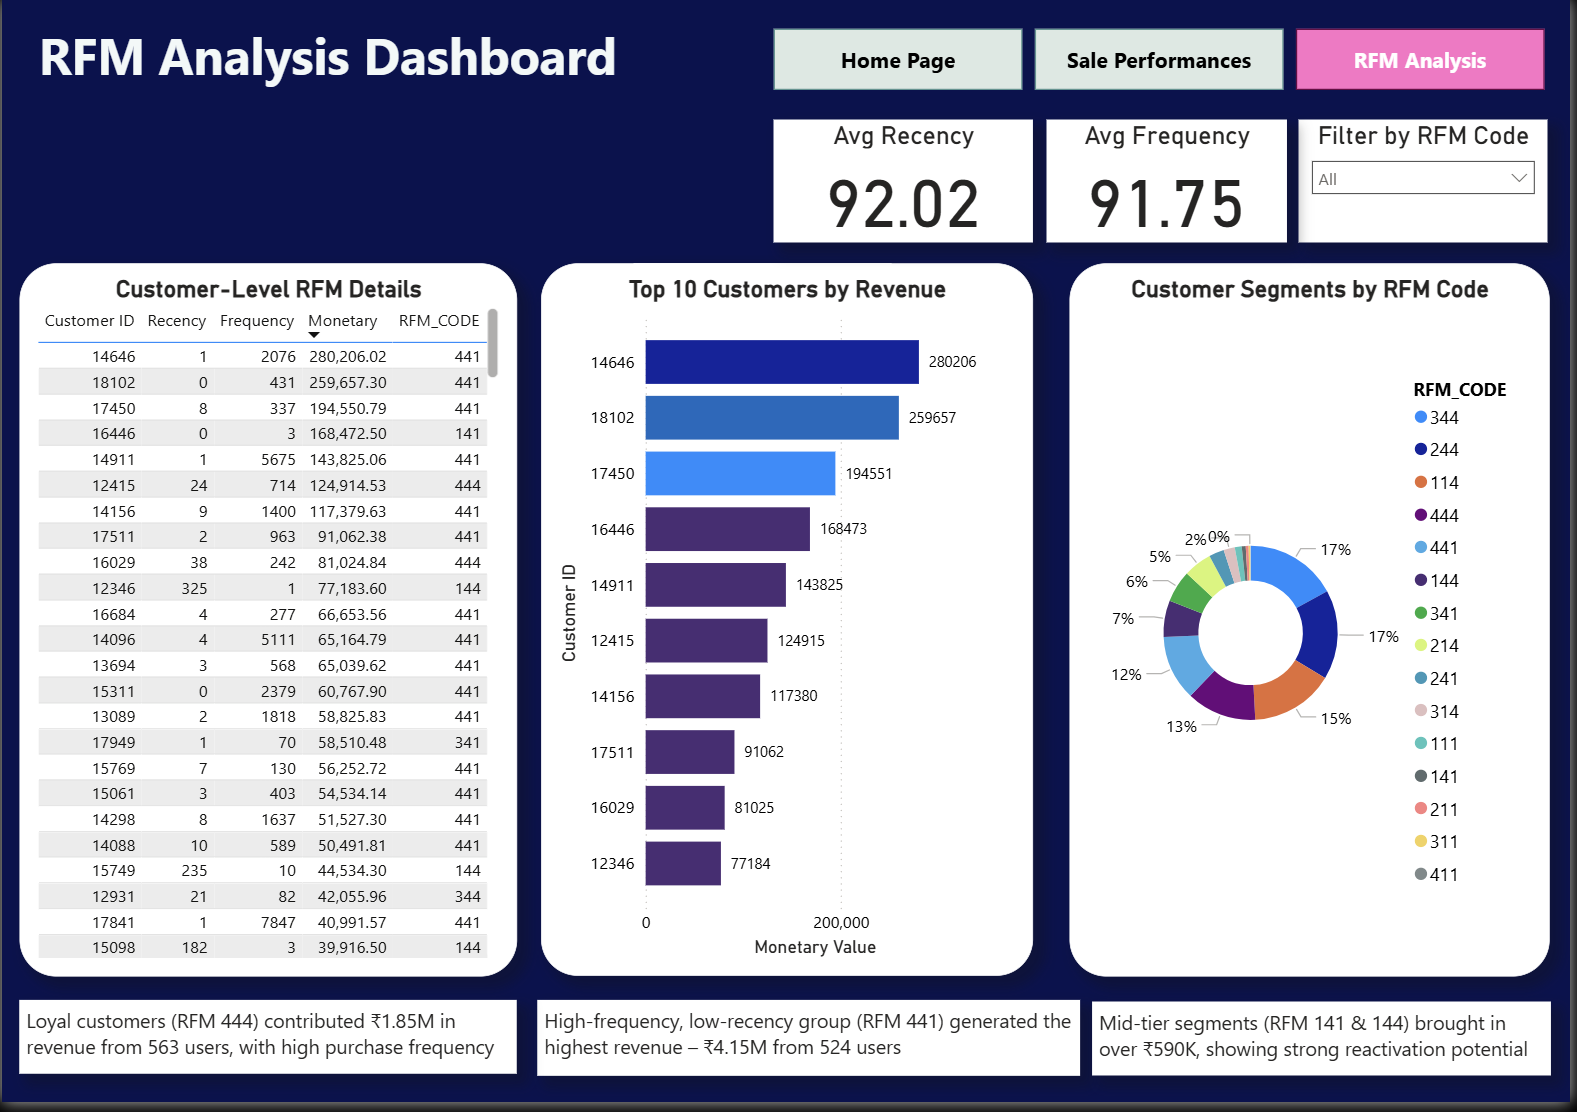

What the dashboard file says about the page in this screenshot:
{"tool":"powerbi","page":{"name":"RFM Analysis","canvas":[1280,900],"ordinal":2},"visuals":[{"type":"card","title":"Avg Recency","fields":{"Values":["Avg(RFM_FINAL.Recency)"]},"box":[515.7,215.7,210,102.9],"z":0},{"type":"donutChart","title":" Customer Segments by RFM Code","fields":{"Category":["RFM_FINAL.RFM_CODE"],"Y":["CountNonNull(RFM_FINAL.Customer ID)"]},"box":[872,216,392,582],"z":1000},{"type":"clusteredBarChart","title":"Top 10 Customers by Revenue","fields":{"Category":["RFM_FINAL.Customer ID"],"Y":["Sum(RFM_FINAL.Monetary)"]},"box":[440,215.7,401.4,581.4],"z":2000},{"type":"tableEx","title":"Customer-Level RFM Details","fields":{"Values":["RFM_FINAL.Customer ID","RFM_FINAL.Recency","RFM_FINAL.Frequency","RFM_FINAL.Monetary","RFM_FINAL.RFM_CODE"]},"box":[14,216,406,582],"z":3000},{"type":"slicer","title":"Filter by RFM Code","fields":{"Values":["RFM_FINAL.RFM_CODE"]},"box":[1058.6,98.6,202.9,100],"z":4000},{"type":"card","title":"Avg Recency","fields":{"Values":["Avg(RFM_FINAL.Recency)"]},"box":[630,98.6,211.4,100],"z":5000},{"type":"textbox","box":[437.1,817.1,442.9,61.4],"z":6000},{"type":"textbox","box":[890,818.6,374.3,60],"z":7000},{"type":"textbox","box":[14.3,817.1,405.7,60],"z":8000},{"type":"shape","title":"Dashboard_Name","box":[0,0,620,74.3],"z":9000},{"type":"pageNavigator","box":[630,24.3,631.4,50],"z":10000},{"type":"card","title":"Avg Frequency","fields":{"Values":["Avg(RFM_FINAL.Frequency)"]},"box":[852.9,98.6,195.7,100],"z":11000}]}

Visuals, with their boxes in screenshot pixels (x1, y1, x2, y2), scaled from the page's 1280x900 canvas onto the 1577x1112 screenshot:
"Avg Recency" card: bbox(635, 267, 894, 394)
" Customer Segments by RFM Code" donutChart: bbox(1074, 267, 1557, 986)
"Top 10 Customers by Revenue" clusteredBarChart: bbox(542, 267, 1037, 985)
"Customer-Level RFM Details" tableEx: bbox(17, 267, 517, 986)
"Filter by RFM Code" slicer: bbox(1304, 122, 1554, 245)
"Avg Recency" card: bbox(776, 122, 1037, 245)
textbox: bbox(539, 1010, 1084, 1085)
textbox: bbox(1097, 1011, 1558, 1086)
textbox: bbox(18, 1010, 517, 1084)
"Dashboard_Name" shape: bbox(0, 0, 764, 92)
pageNavigator: bbox(776, 30, 1554, 92)
"Avg Frequency" card: bbox(1051, 122, 1292, 245)
